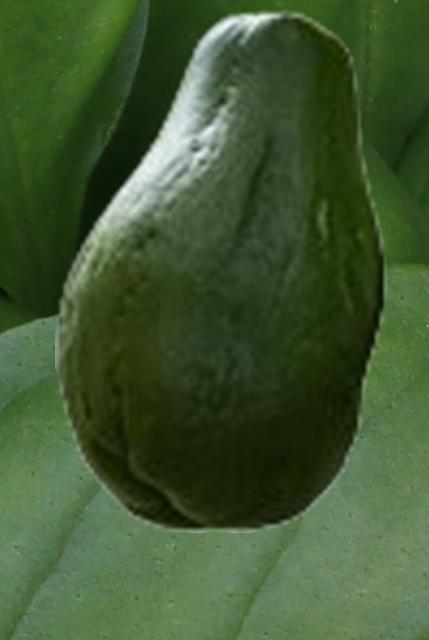sayote: (55, 9, 386, 531)
